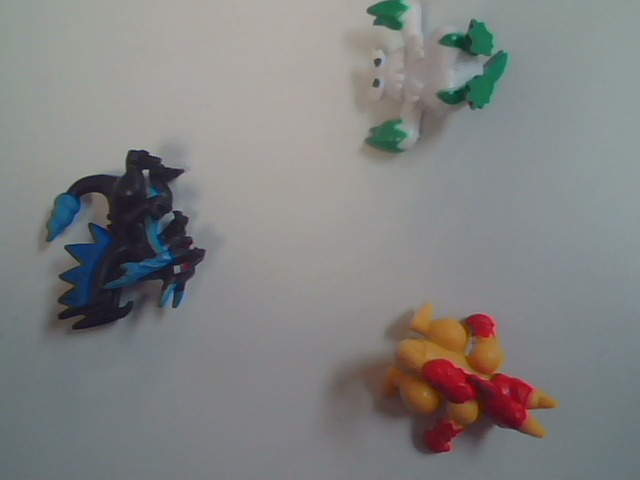abomasnow: (323, 4, 536, 169)
charizard: (28, 144, 239, 354)
magmar: (352, 299, 565, 480)
